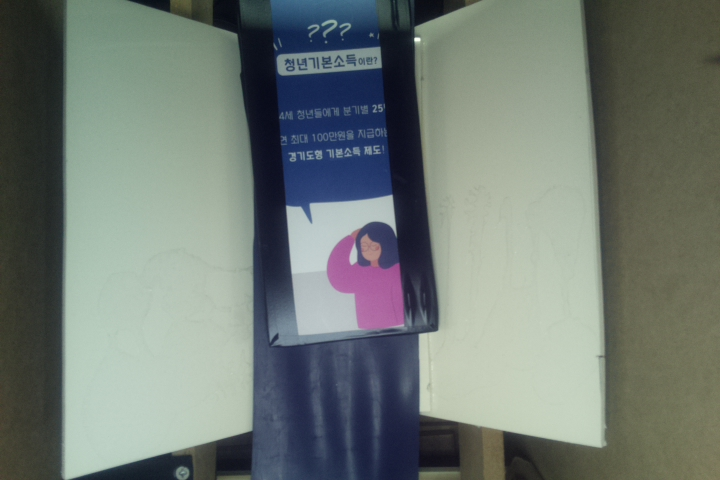book: (239, 1, 444, 352)
